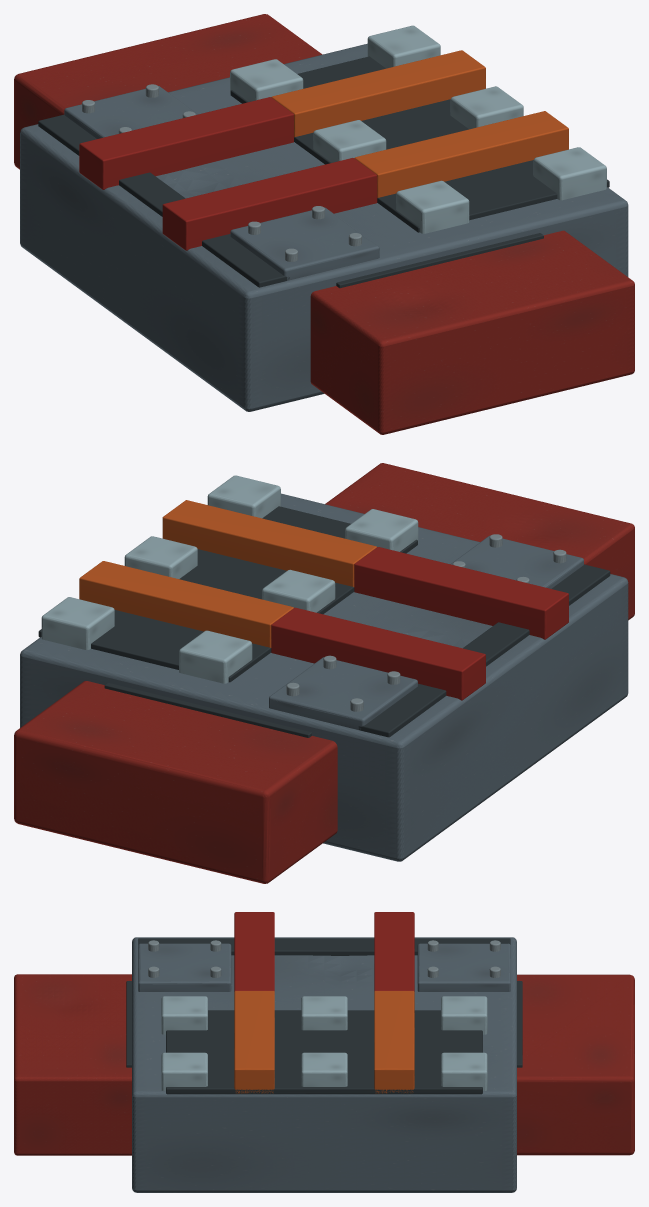
3 renders of one model, top to bottom at view 1: azimuth 30°, elevation 25°; view 2: azimuth 150°, elevation 25°; view 3: azimuth 270°, elevation 25°, orthographic. The views are drawn at different scales.
Parts seen in each view (by area): view 1: Mauna Radiation Unit central casing, Mauna Radiation Unit forward terminal, Mauna Radiation Unit rear terminal, Mauna Radiation Unit red transverse field 1, Mauna Radiation Unit red transverse field 0, Mauna Radiation Unit orange transverse field 0, Mauna Radiation Unit orange transverse field 1, Mauna Radiation Unit dark patterned backing, Mauna Radiation Unit service cover 0, Mauna Radiation Unit dark longitudinal field, Mauna Radiation Unit service cover 1, Mauna Radiation Unit pale pad 0 0 (+6 smaller); view 2: Mauna Radiation Unit central casing, Mauna Radiation Unit rear terminal, Mauna Radiation Unit forward terminal, Mauna Radiation Unit red transverse field 0, Mauna Radiation Unit red transverse field 1, Mauna Radiation Unit orange transverse field 1, Mauna Radiation Unit orange transverse field 0, Mauna Radiation Unit dark patterned backing, Mauna Radiation Unit service cover 1, Mauna Radiation Unit dark longitudinal field, Mauna Radiation Unit service cover 0, Mauna Radiation Unit pale pad 0 2 (+6 smaller); view 3: Mauna Radiation Unit central casing, Mauna Radiation Unit forward terminal, Mauna Radiation Unit rear terminal, Mauna Radiation Unit dark patterned backing, Mauna Radiation Unit service cover 0, Mauna Radiation Unit service cover 1, Mauna Radiation Unit orange transverse field 0, Mauna Radiation Unit orange transverse field 1, Mauna Radiation Unit red transverse field 0, Mauna Radiation Unit red transverse field 1, Mauna Radiation Unit dark longitudinal field, Mauna Radiation Unit pale pad 0 0 (+7 smaller).
Boxes of the visible parts, x1=… form: Mauna Radiation Unit central casing: x1=20, y1=43, x2=628, y2=411; Mauna Radiation Unit forward terminal: x1=310, y1=230, x2=634, y2=434; Mauna Radiation Unit rear terminal: x1=14, y1=14, x2=322, y2=169; Mauna Radiation Unit red transverse field 1: x1=79, y1=97, x2=293, y2=189; Mauna Radiation Unit red transverse field 0: x1=162, y1=158, x2=377, y2=250; Mauna Radiation Unit orange transverse field 0: x1=354, y1=111, x2=568, y2=197; Mauna Radiation Unit orange transverse field 1: x1=271, y1=50, x2=485, y2=137; Mauna Radiation Unit dark patterned backing: x1=230, y1=56, x2=609, y2=232; Mauna Radiation Unit service cover 0: x1=230, y1=207, x2=379, y2=280; Mauna Radiation Unit dark longitudinal field: x1=38, y1=114, x2=289, y2=287; Mauna Radiation Unit service cover 1: x1=64, y1=86, x2=197, y2=138; Mauna Radiation Unit pale pad 0 0: x1=396, y1=180, x2=469, y2=233; Mauna Radiation Unit central casing: x1=20, y1=493, x2=628, y2=861; Mauna Radiation Unit rear terminal: x1=14, y1=681, x2=337, y2=883; Mauna Radiation Unit forward terminal: x1=325, y1=463, x2=634, y2=620; Mauna Radiation Unit red transverse field 0: x1=354, y1=547, x2=568, y2=639; Mauna Radiation Unit red transverse field 1: x1=271, y1=607, x2=485, y2=700; Mauna Radiation Unit orange transverse field 1: x1=79, y1=561, x2=293, y2=647; Mauna Radiation Unit orange transverse field 0: x1=162, y1=500, x2=376, y2=586; Mauna Radiation Unit dark patterned backing: x1=38, y1=506, x2=417, y2=682; Mauna Radiation Unit service cover 1: x1=269, y1=657, x2=417, y2=730; Mauna Radiation Unit dark longitudinal field: x1=358, y1=564, x2=610, y2=737; Mauna Radiation Unit service cover 0: x1=450, y1=535, x2=583, y2=588; Mauna Radiation Unit pale pad 0 2: x1=179, y1=630, x2=252, y2=683; Mauna Radiation Unit central casing: x1=132, y1=937, x2=516, y2=1192; Mauna Radiation Unit forward terminal: x1=14, y1=974, x2=131, y2=1155; Mauna Radiation Unit rear terminal: x1=517, y1=974, x2=634, y2=1155; Mauna Radiation Unit dark patterned backing: x1=166, y1=1010, x2=482, y2=1094; Mauna Radiation Unit service cover 0: x1=138, y1=943, x2=231, y2=991; Mauna Radiation Unit service cover 1: x1=417, y1=943, x2=510, y2=991; Mauna Radiation Unit orange transverse field 0: x1=234, y1=991, x2=274, y2=1093; Mauna Radiation Unit orange transverse field 1: x1=374, y1=991, x2=414, y2=1093; Mauna Radiation Unit red transverse field 0: x1=234, y1=912, x2=274, y2=991; Mauna Radiation Unit red transverse field 1: x1=374, y1=912, x2=414, y2=991; Mauna Radiation Unit dark longitudinal field: x1=138, y1=938, x2=510, y2=955; Mauna Radiation Unit pale pad 0 0: x1=161, y1=996, x2=207, y2=1034.
Size of the model in its own units: 1.2 by 0.4575 by 2.
7 materials, 3 textured.
